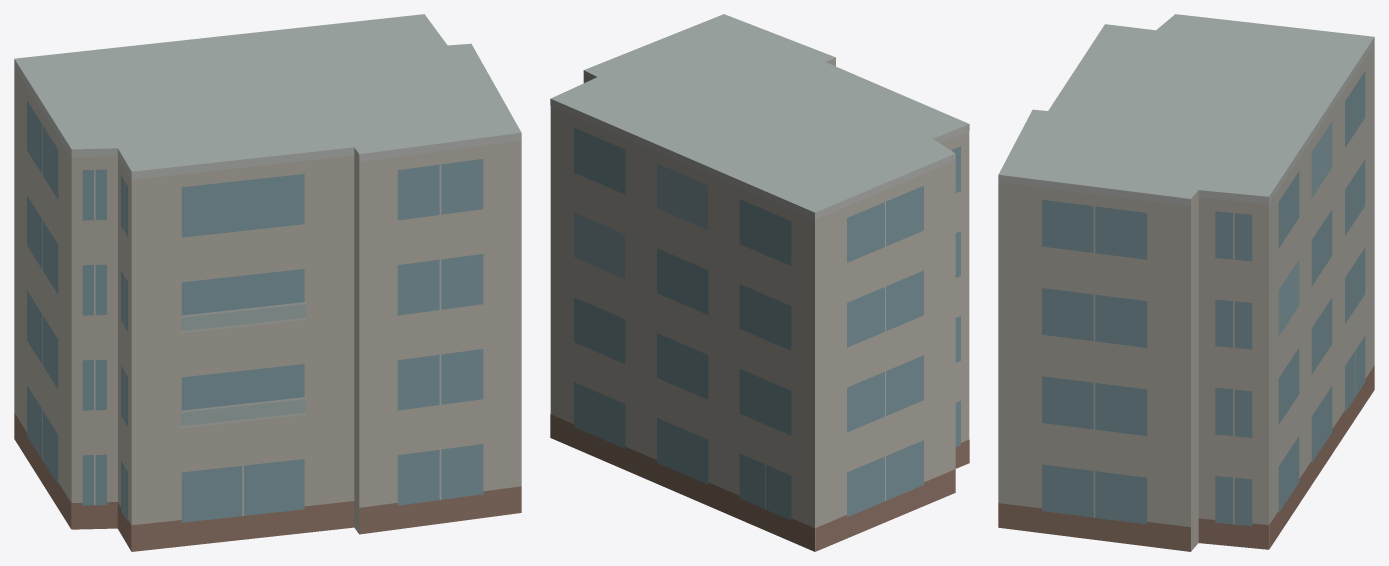
Rendered from survey-upis-32928810.glb.
3 views of the same model, side by side, from view 1: azimuth 30°, elevation 25°; view 2: azimuth 150°, elevation 25°; view 3: azimuth 270°, elevation 25° (orthographic). The views are drawn at different scales.
Parts seen in each view (by area): view 1: survey-upis-32928810.tmp; view 2: survey-upis-32928810.tmp; view 3: survey-upis-32928810.tmp.
Part boxes in pixels (left/top/right/bottom): survey-upis-32928810.tmp: left=14, top=14, right=521, bottom=551; survey-upis-32928810.tmp: left=550, top=14, right=969, bottom=551; survey-upis-32928810.tmp: left=998, top=14, right=1374, bottom=551.
Bounding box in the file's own units: 13.1 × 11.65 × 11.27.
